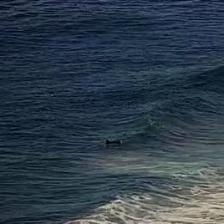surfer: (104, 139, 122, 144)
